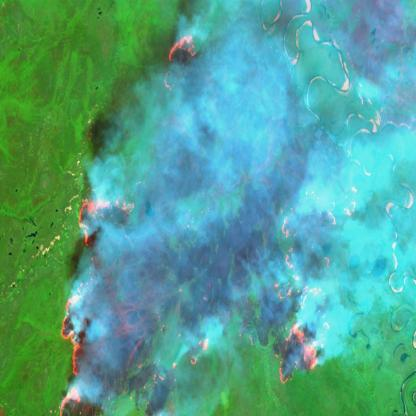fire: (51, 29, 363, 416)
